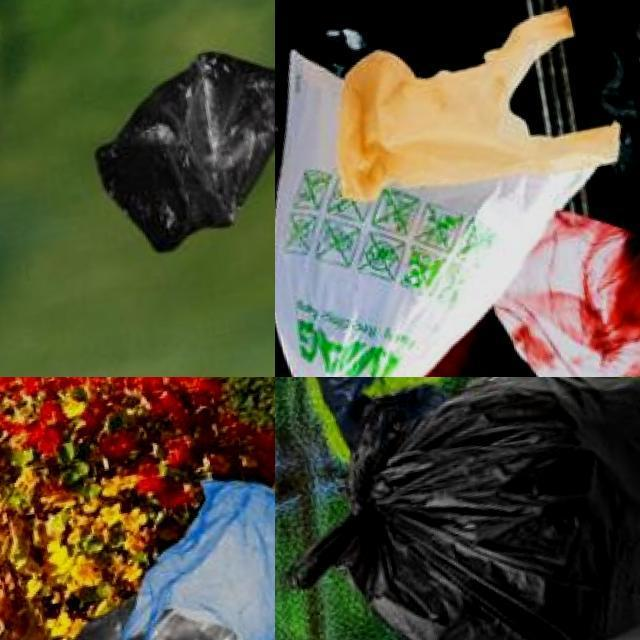waste: (275, 0, 640, 377), (301, 377, 640, 640), (322, 6, 622, 220), (79, 32, 275, 252), (97, 463, 275, 640), (26, 548, 275, 640), (279, 377, 437, 432)
